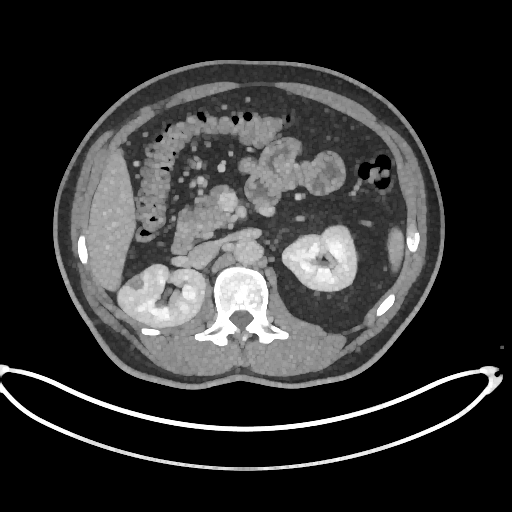Lesion: (122, 277, 144, 292)
